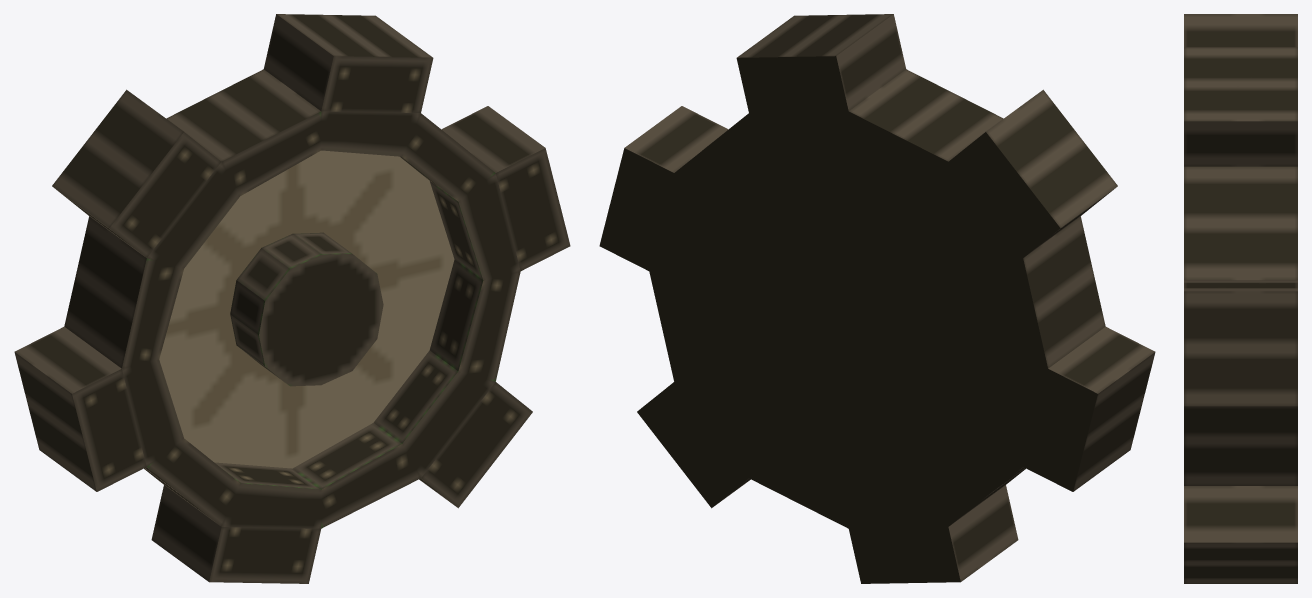
The model's file is BigSteam.fbx.
3 views of the same model, side by side, from view 1: azimuth 30°, elevation 25°; view 2: azimuth 150°, elevation 25°; view 3: azimuth 270°, elevation 25° (orthographic).
Parts seen in each view (by area): view 1: BigSteam; view 2: BigSteam; view 3: BigSteam.
Part boxes in pixels (x1,y1,x2,y2): BigSteam: (14, 14, 570, 583); BigSteam: (599, 14, 1155, 583); BigSteam: (1184, 14, 1297, 583).
Bounding box in the file's own units: 250 × 250 × 50.
